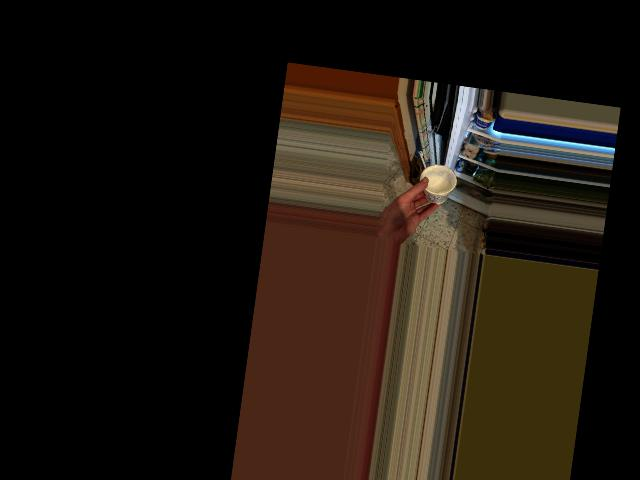cotage: (421, 158, 453, 207)
